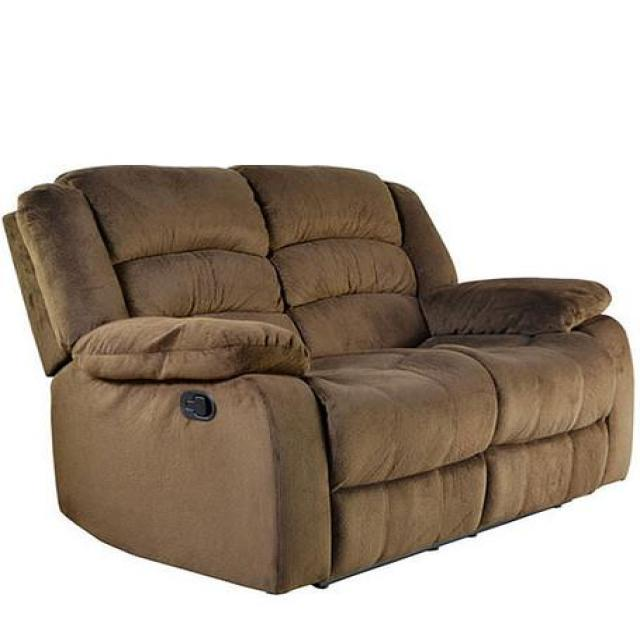sofa: (1, 163, 636, 595)
